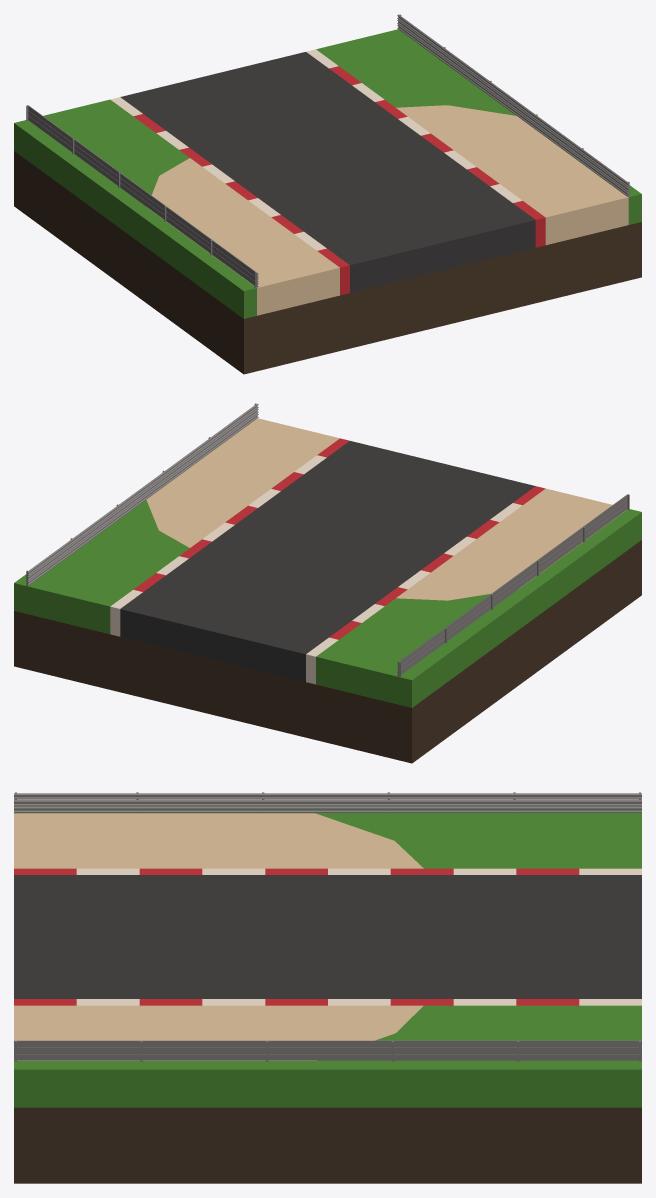
The model's file is tiles_tile-race-track-straight-curbs-sand-cut.fbx.
3 views of the same model, one above another, from view 1: azimuth 30°, elevation 25°; view 2: azimuth 150°, elevation 25°; view 3: azimuth 270°, elevation 25° (orthographic). The views are drawn at different scales.
Parts seen in each view (by area): view 1: tiles_tile_race_track_straight_curbs_sand_cut; view 2: tiles_tile_race_track_straight_curbs_sand_cut; view 3: tiles_tile_race_track_straight_curbs_sand_cut.
Boxes of the visible parts, left/top/right/bottom form: tiles_tile_race_track_straight_curbs_sand_cut: left=14, top=14, right=641, bottom=374; tiles_tile_race_track_straight_curbs_sand_cut: left=14, top=403, right=641, bottom=763; tiles_tile_race_track_straight_curbs_sand_cut: left=14, top=792, right=641, bottom=1183.
Size of the model in its own units: 200 by 47 by 200.
